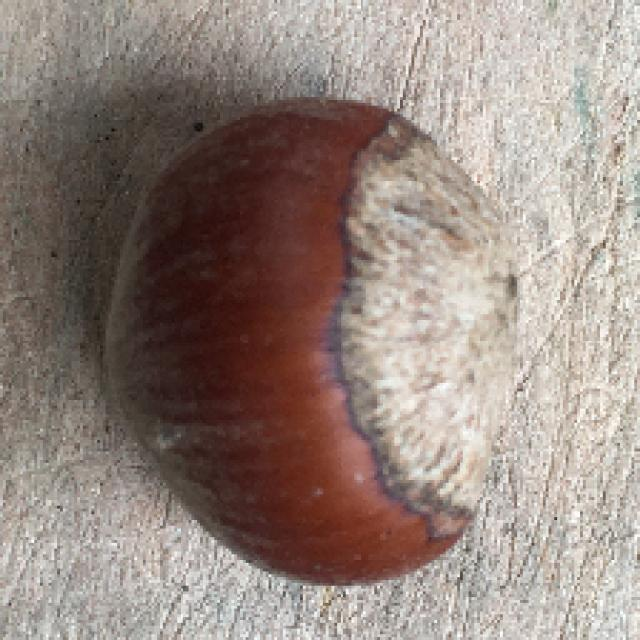qualityHazelnut: (101, 97, 526, 584)
